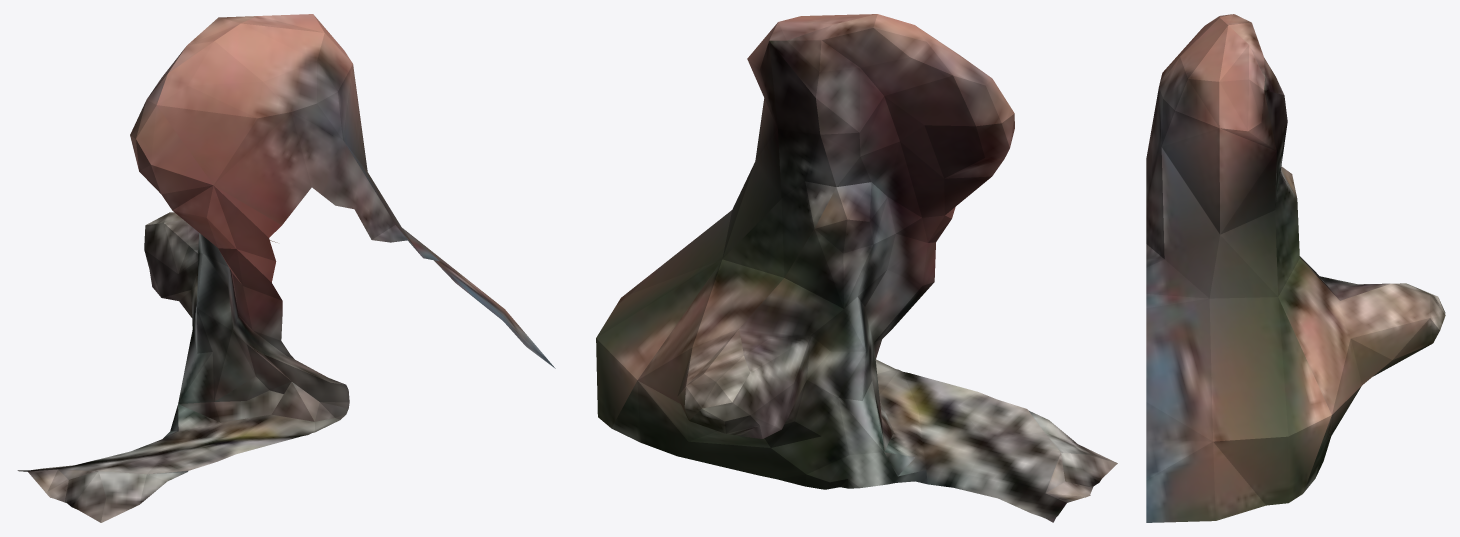
3 views of the same model, side by side, from view 1: azimuth 30°, elevation 25°; view 2: azimuth 150°, elevation 25°; view 3: azimuth 270°, elevation 25° (orthographic). The views are drawn at different scales.
Bounding box in the file's own units: 1.49 × 1.25 × 0.9028.
1 material, 1 textured.
